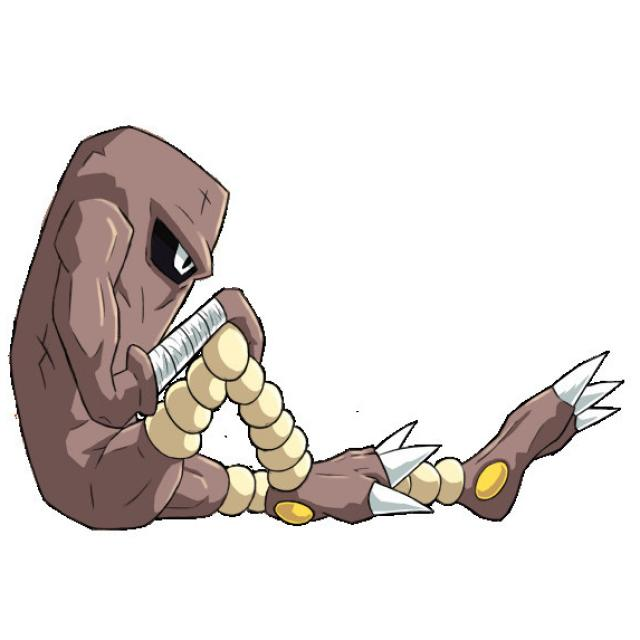Hitmonlee: (1, 116, 320, 524)
